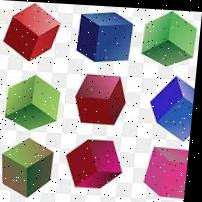cube: (65, 133, 129, 190), (1, 135, 60, 196), (5, 71, 64, 130), (4, 2, 62, 62), (76, 4, 134, 63), (140, 7, 198, 66), (148, 71, 197, 140), (74, 70, 128, 127), (145, 142, 192, 199)
